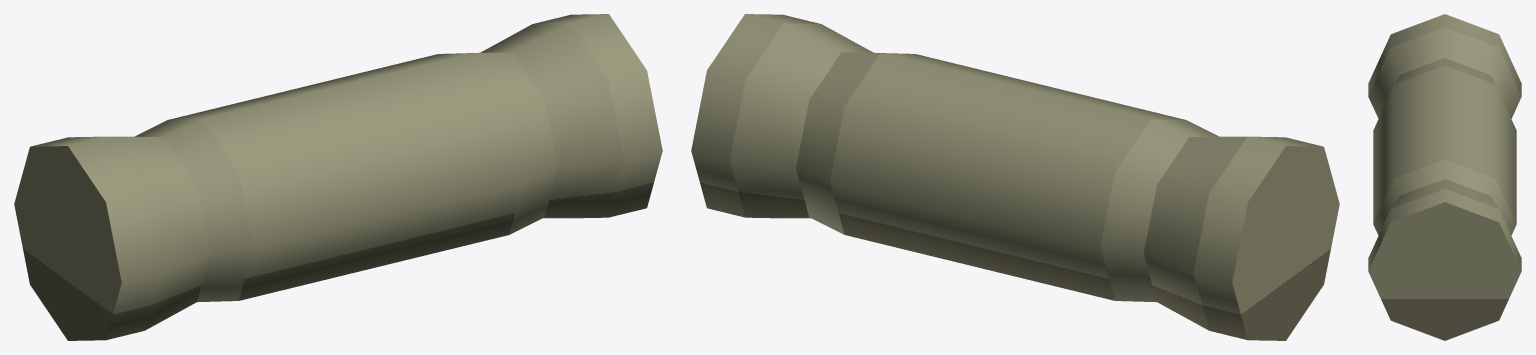
File: bundle-rolled-wool.glb
3 views of the same model, side by side, from view 1: azimuth 30°, elevation 25°; view 2: azimuth 150°, elevation 25°; view 3: azimuth 270°, elevation 25° (orthographic). The views are drawn at different scales.
Parts seen in each view (by area): view 1: bundle-rolled-wool runtime mesh; view 2: bundle-rolled-wool runtime mesh; view 3: bundle-rolled-wool runtime mesh.
Boxes of the visible parts, <box> form: bundle-rolled-wool runtime mesh: <box>14,14,662,340</box>; bundle-rolled-wool runtime mesh: <box>691,14,1339,340</box>; bundle-rolled-wool runtime mesh: <box>1368,14,1521,340</box>.
Bounding box in the file's own units: 1.02 × 0.35 × 0.35.
1 material, 1 textured.
